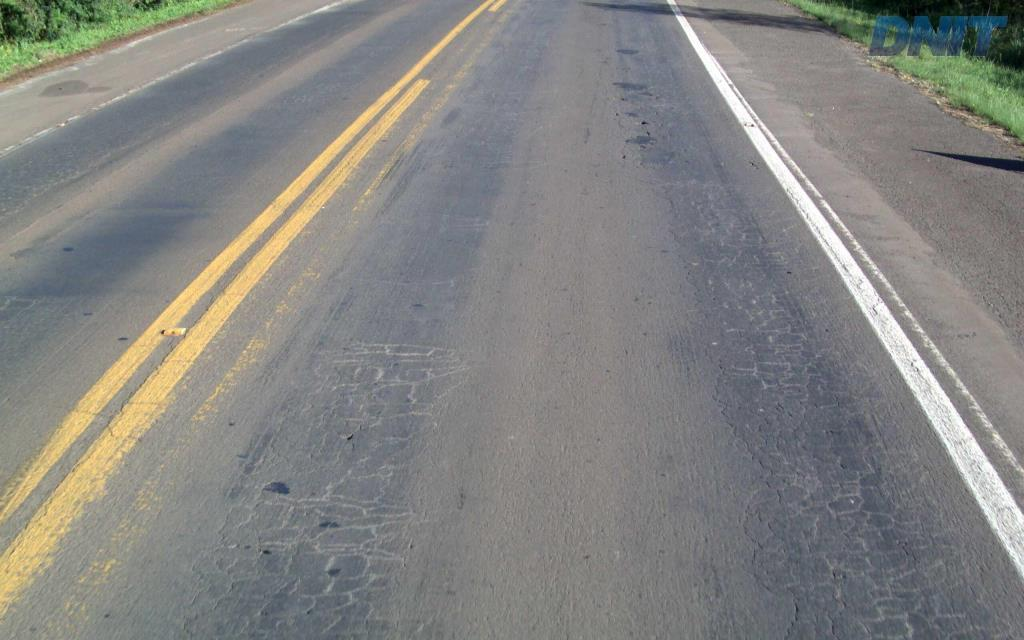pothole: (637, 117, 650, 125)
